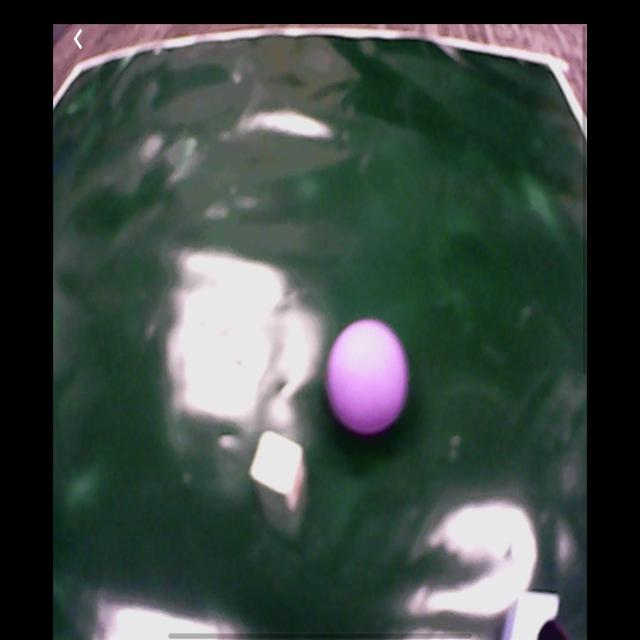ball: (326, 319, 411, 439)
